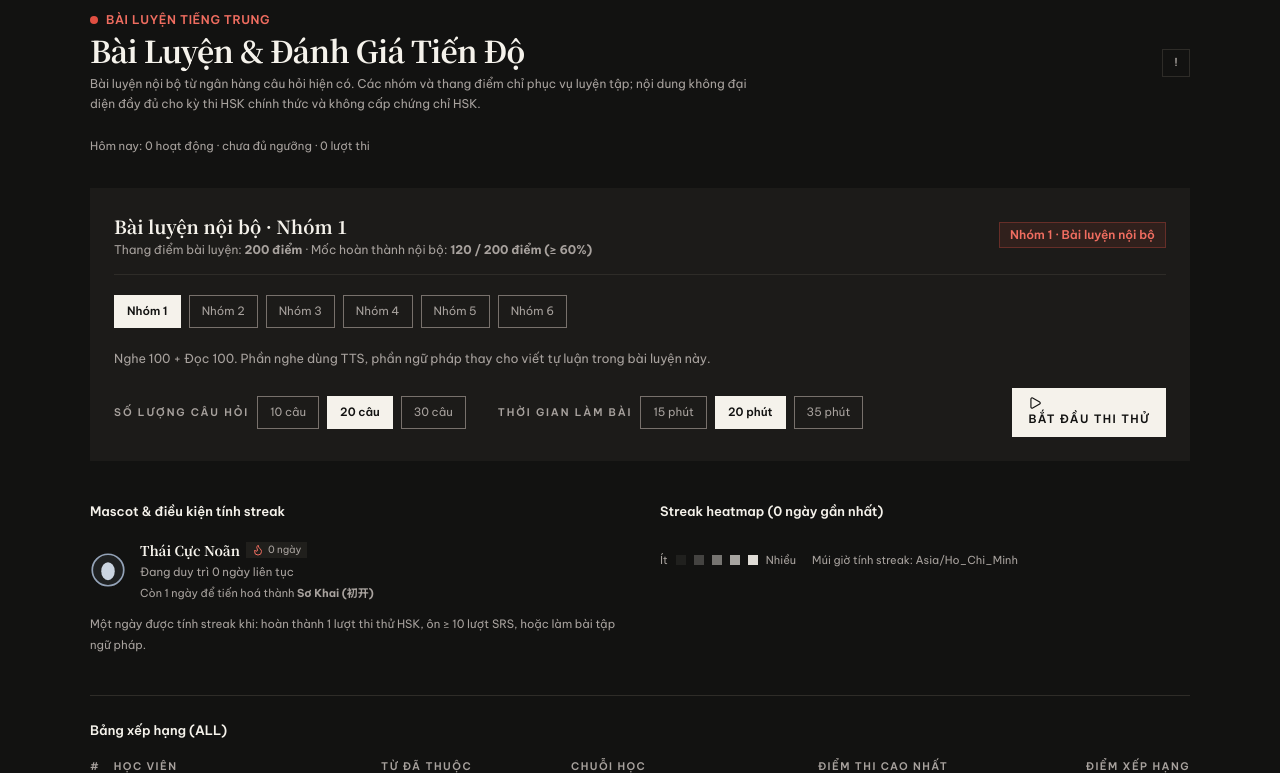
Test: QA-005: six deadline ticks keep one submission in flight and allow explicit retry after failure
Click the button "Bắt đầu thi thử" at (1089, 413), box [1012,388,1166,437]
Wait 9000 ms
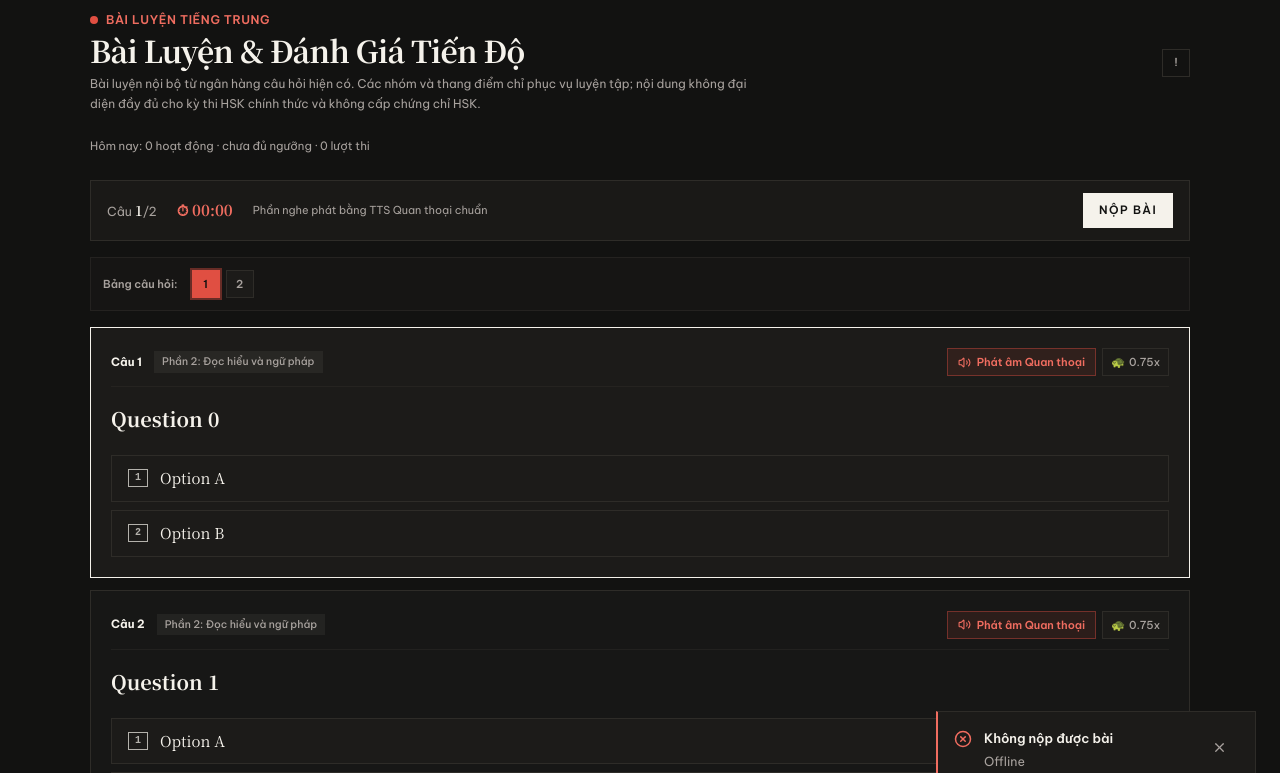
Expected: the text "Question 0" is shown, [111,404,220,433]
Click the button "Nộp bài" at (1128, 210), box [1083,193,1173,228]
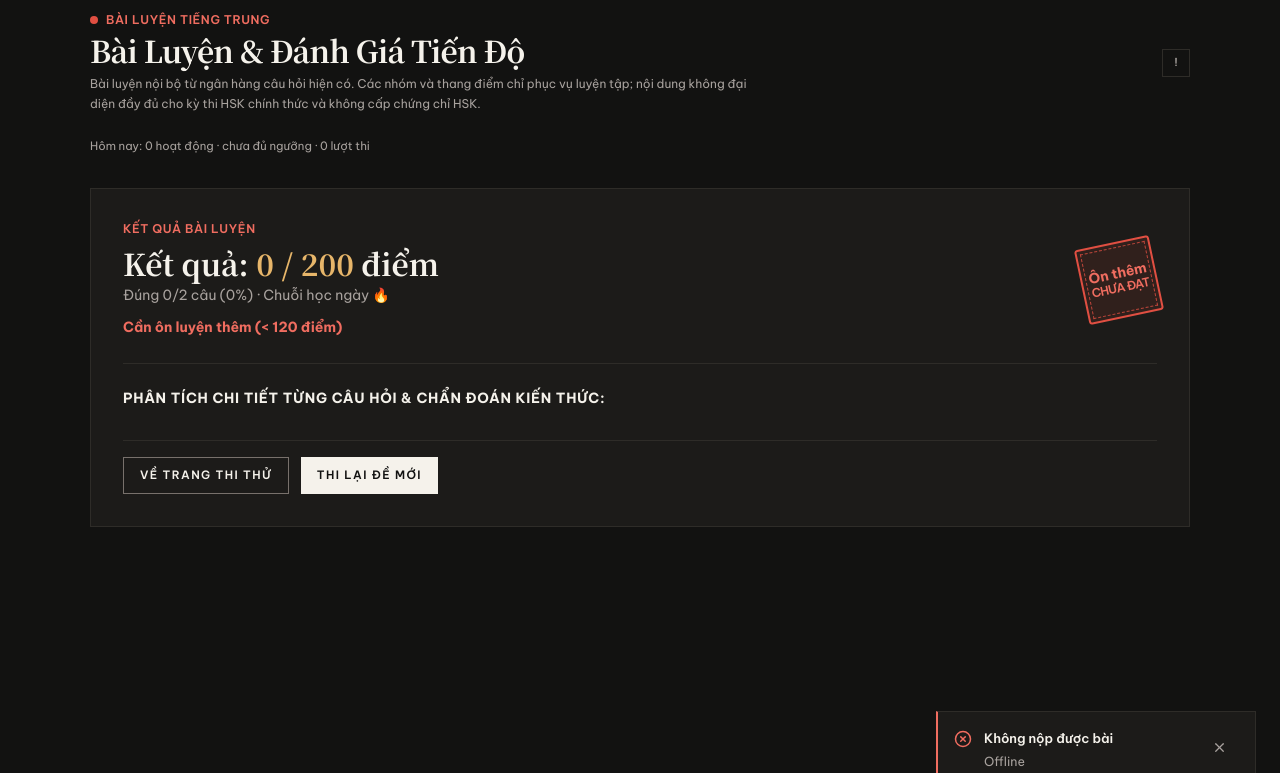
Expected: the heading "Kết quả: 0 / 200 điểm" is shown, [123,245,439,281]
